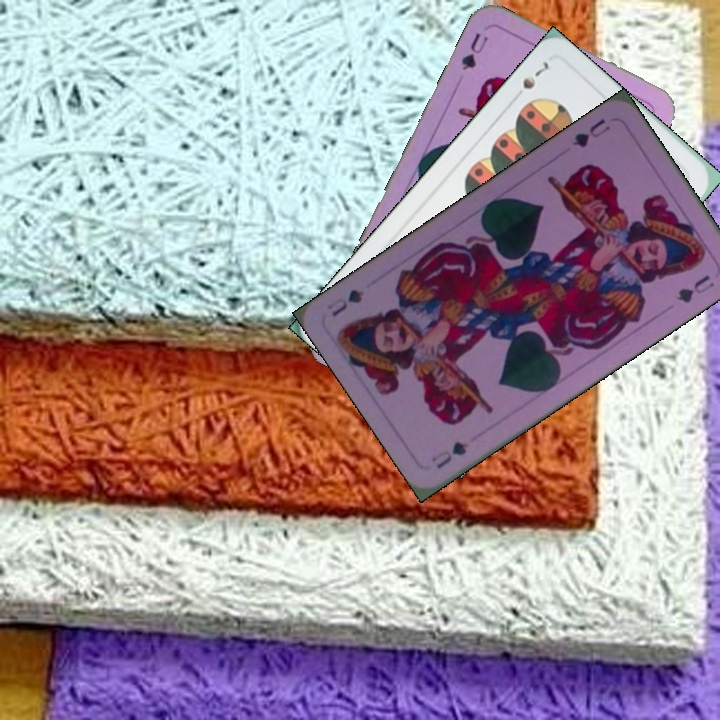GU: (568, 114, 613, 151), (427, 437, 471, 472), (457, 29, 491, 74)
S7: (508, 57, 551, 104)
